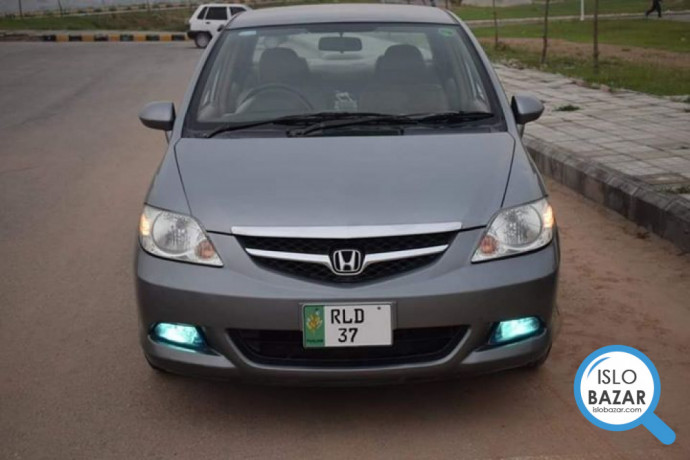plate: (297, 300, 398, 350)
